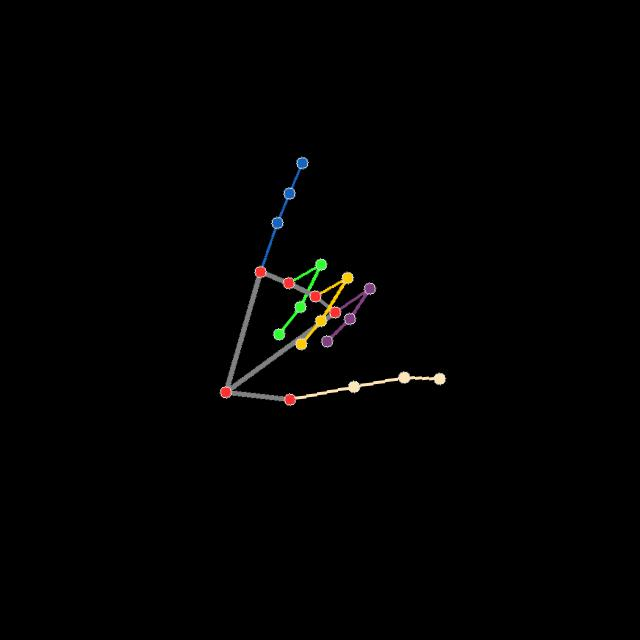skr: (215, 155, 447, 408)
